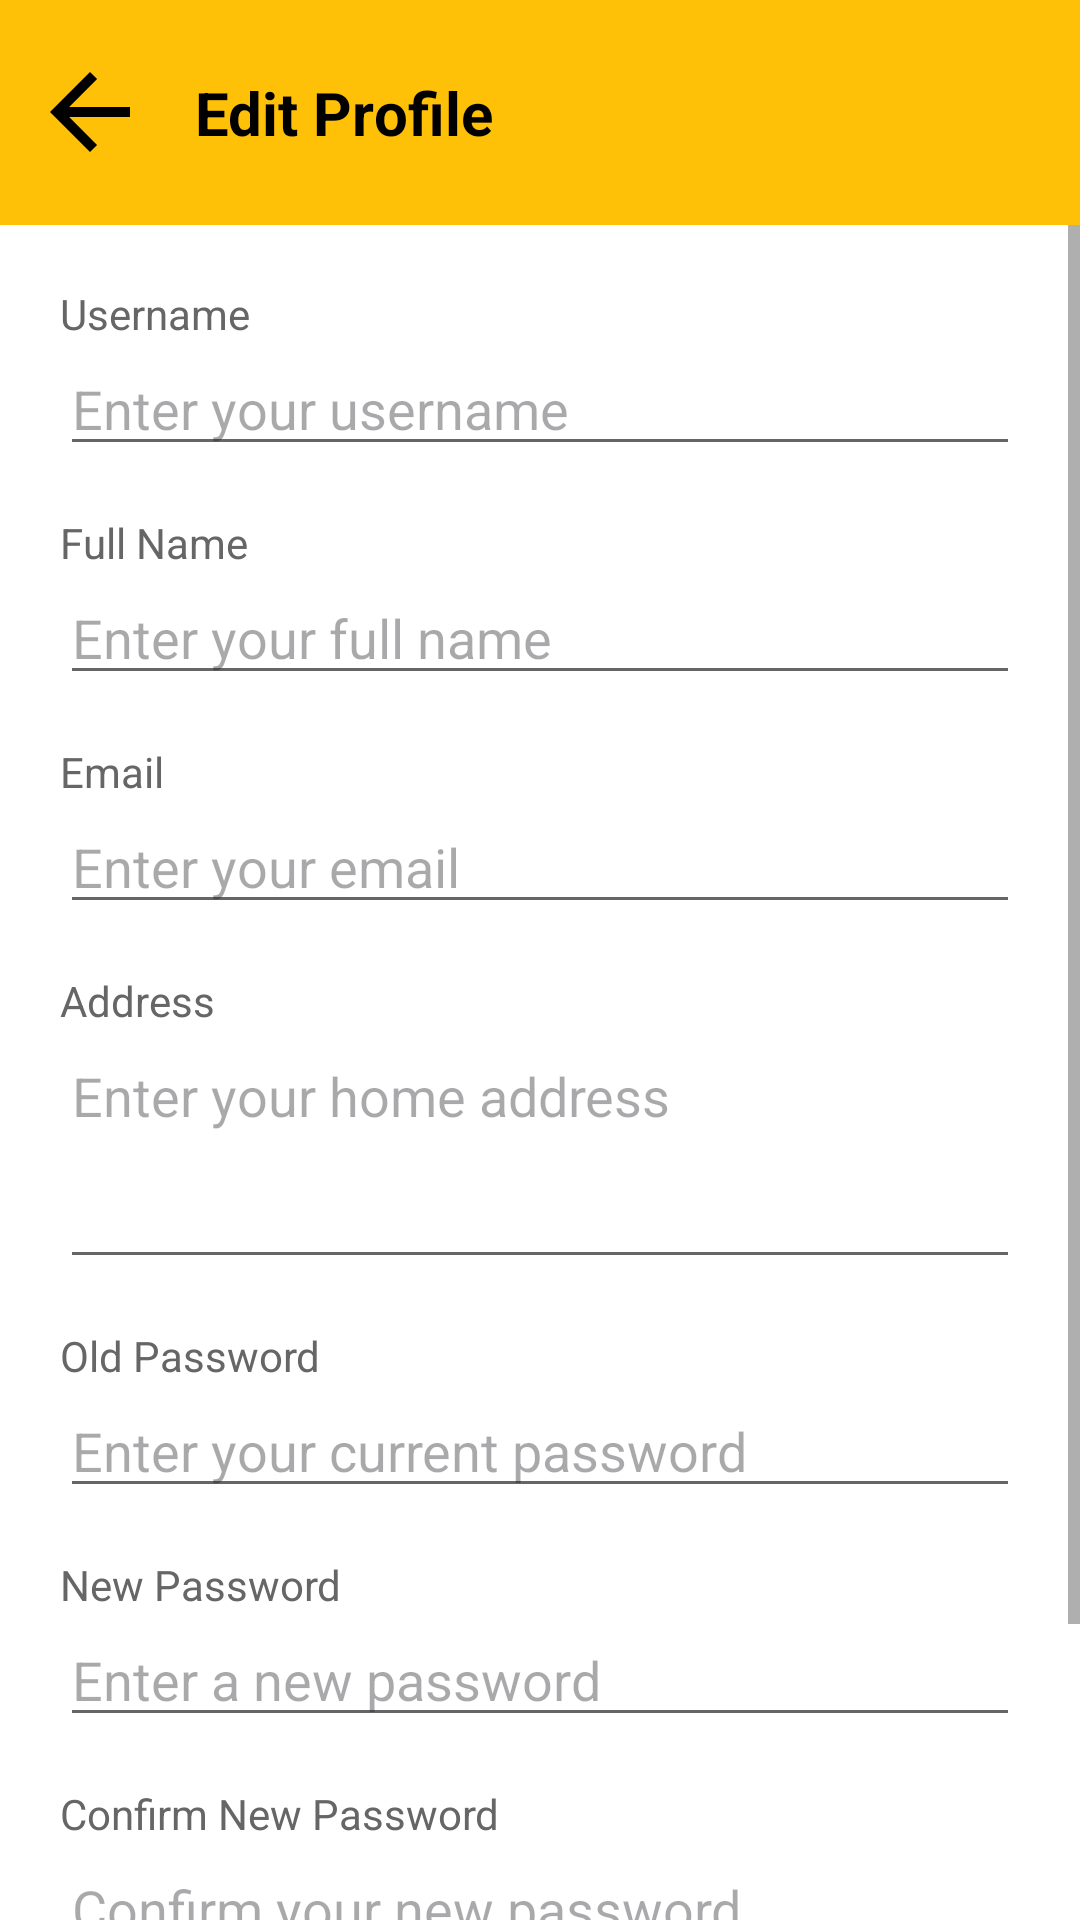

Locate icon controls on the screen. Image size 1080 × 1920, boxes as (x1, y1, x2, y2).
back arrow: (50, 72, 130, 152)
